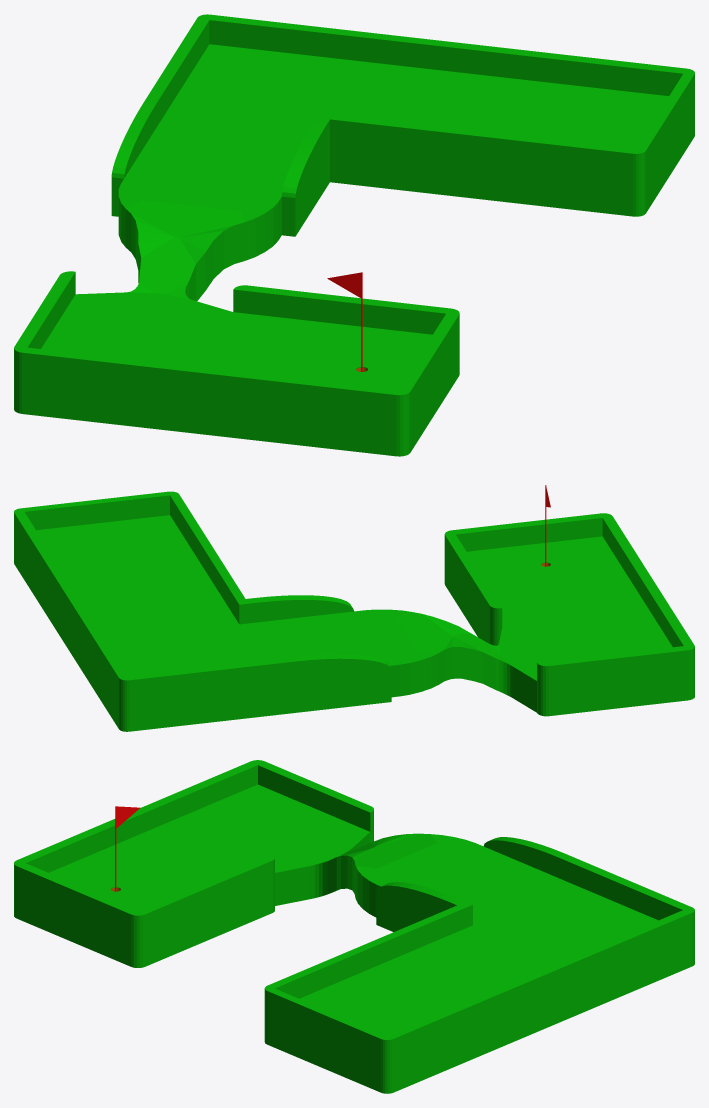
File: level_5.glb
The picture shows the model from 3 angles, top to bottom: view 1: azimuth 30°, elevation 25°; view 2: azimuth 150°, elevation 25°; view 3: azimuth 270°, elevation 25°; orthographic projection. The views are drawn at different scales.
Parts seen in each view (by area): view 1: green; view 2: green; view 3: green.
Part boxes in pixels (left/top/right/bottom): green: left=14, top=14, right=694, bottom=456; green: left=14, top=491, right=694, bottom=731; green: left=14, top=760, right=694, bottom=1093.
Size of the model in its own units: 6.62 by 1.14 by 6.05.
